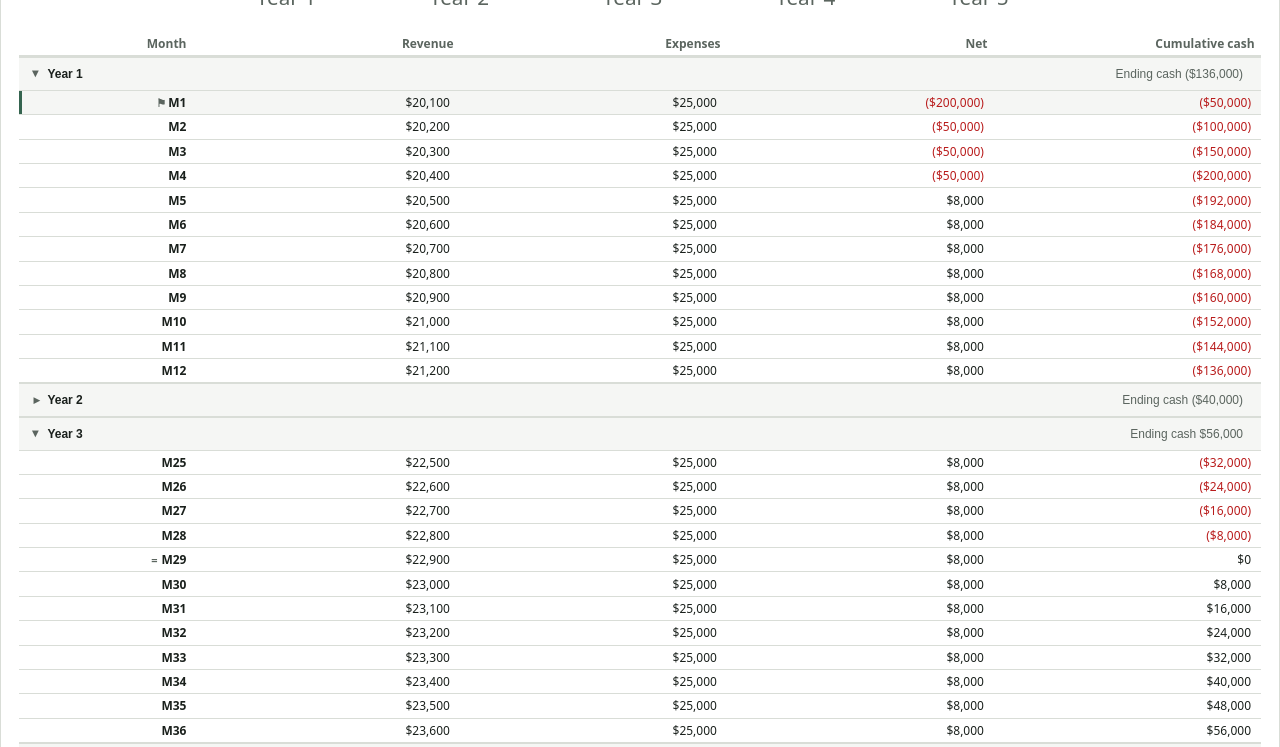
Test: CashflowChart module › toggles a collapsed group open on click (aria-expanded flips, rows un-hide)
(page scrolled)
Click the button with test id "cashflow-group-toggle-year-2" at (65, 400), box [25,388,1251,413]
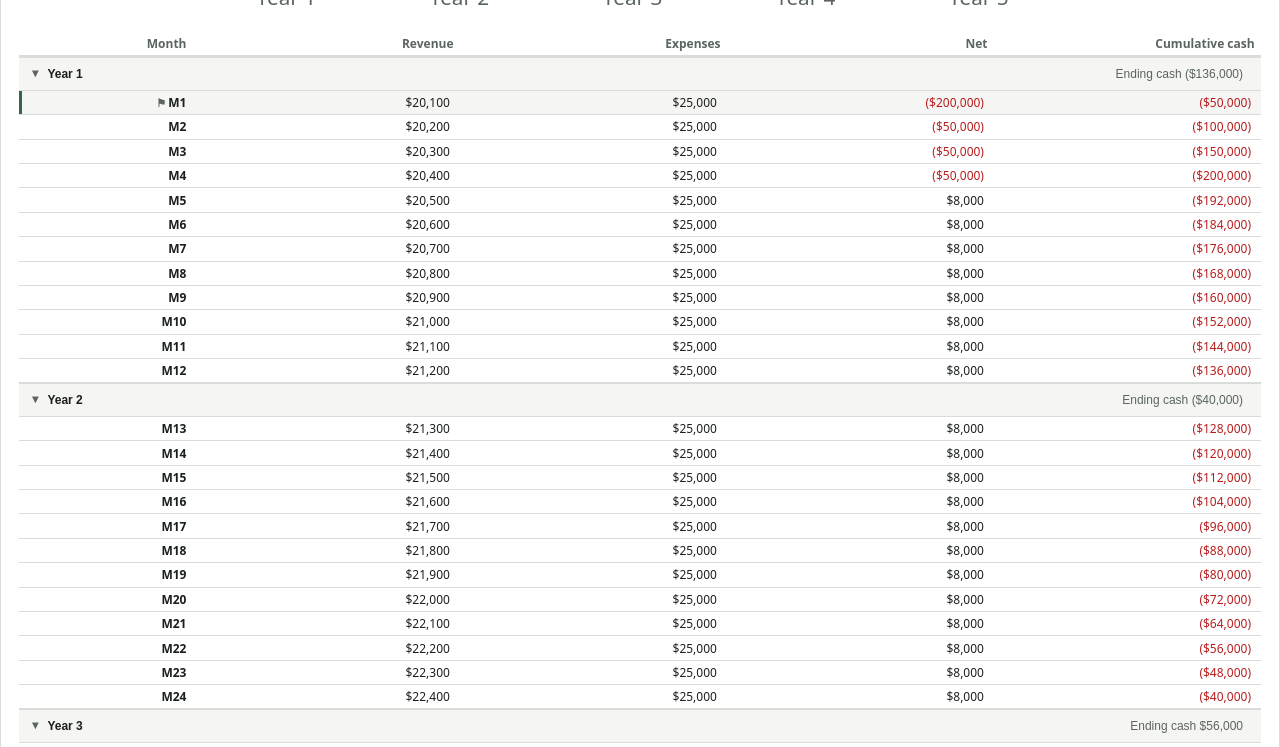
Expected: the button with test id "cashflow-group-toggle-year-2" is expanded, [25,388,1251,413]
